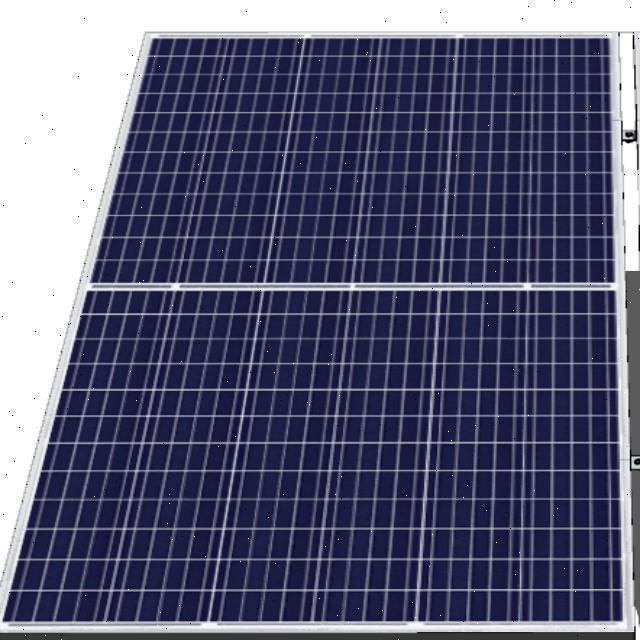Normal Solar Panel: (0, 285, 620, 626), (85, 33, 617, 286)
